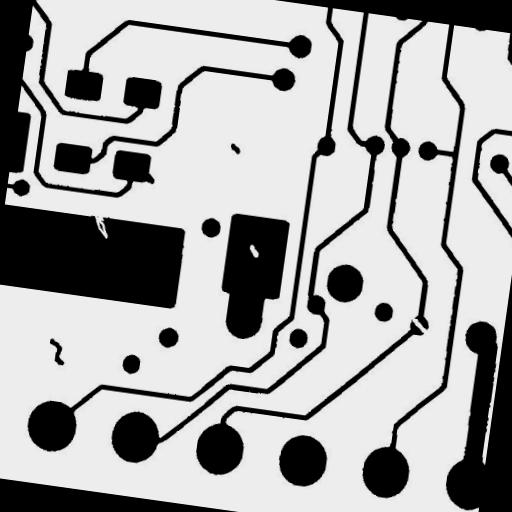copper: (38, 330, 75, 374), (221, 134, 249, 162)
mousebite: (84, 202, 120, 248)
open: (402, 310, 438, 342)
pin-hole: (239, 236, 268, 266)
spur: (134, 162, 164, 192)
